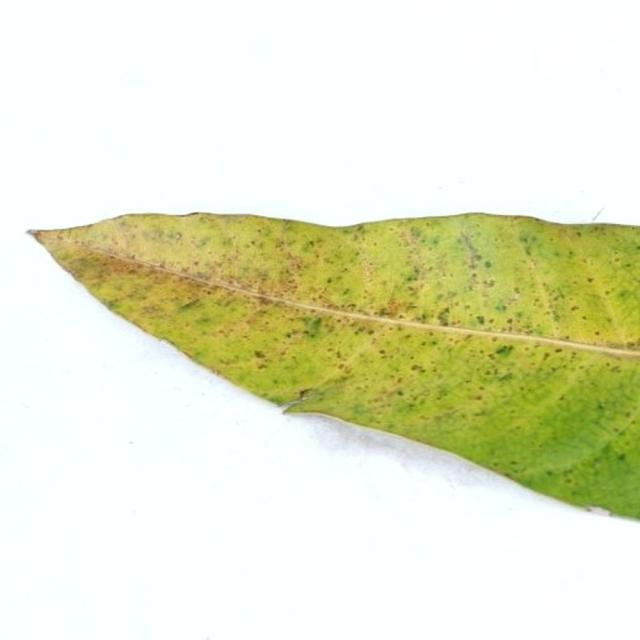Mango: (36, 214, 639, 518)
Powdery_Mildew: (293, 314, 328, 347), (462, 237, 486, 271), (597, 439, 619, 465), (177, 299, 199, 311), (618, 288, 635, 302), (521, 235, 535, 252), (494, 344, 513, 356), (437, 308, 451, 324), (405, 271, 420, 283), (104, 299, 118, 311), (497, 372, 513, 382), (495, 302, 507, 312), (474, 315, 485, 324), (253, 350, 265, 358), (173, 232, 181, 240)
